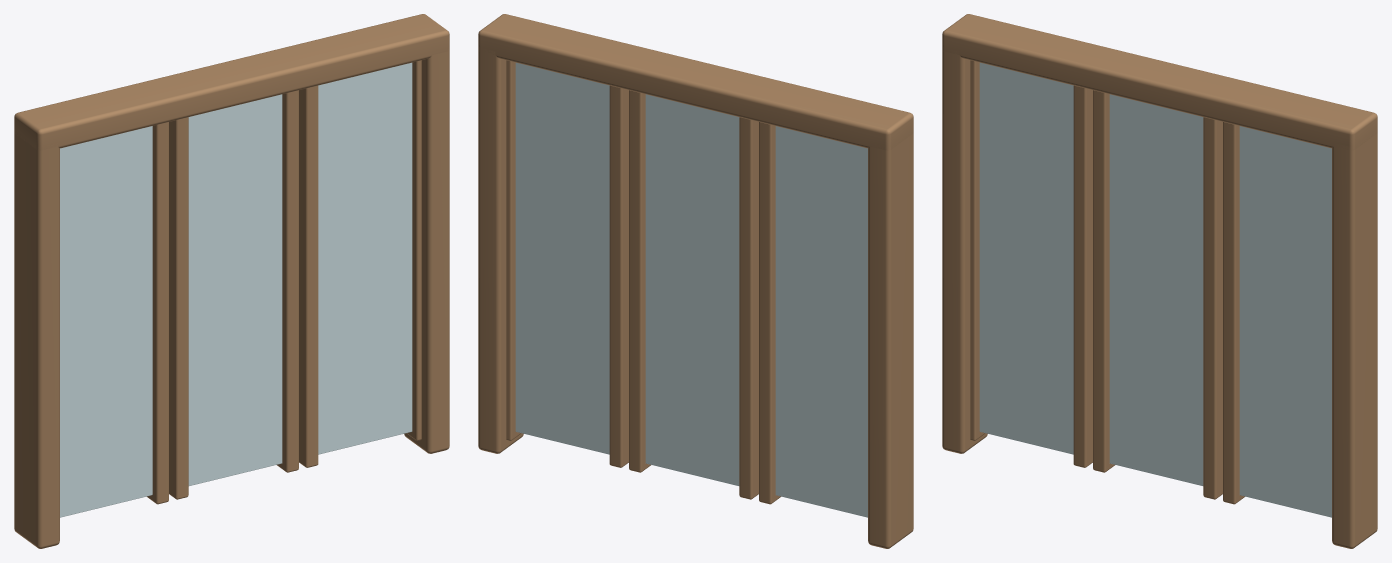
Rendered from atelier-bay-window.glb.
The picture shows the model from 3 angles, left to right: view 1: azimuth 30°, elevation 25°; view 2: azimuth 150°, elevation 25°; view 3: azimuth 330°, elevation 25°; orthographic projection.
Parts seen in each view (by area): view 1: glass.029, legs.251; view 2: glass.029, legs.251; view 3: glass.029, legs.251.
Boxes of the visible parts, <box> form: glass.029: <box>60,62,412,517</box>; legs.251: <box>14,14,449,548</box>; glass.029: <box>515,62,867,517</box>; legs.251: <box>478,14,913,548</box>; glass.029: <box>979,62,1331,517</box>; legs.251: <box>942,14,1377,548</box>.
Size of the model in its own units: 1.27 by 1.24 by 0.14.
